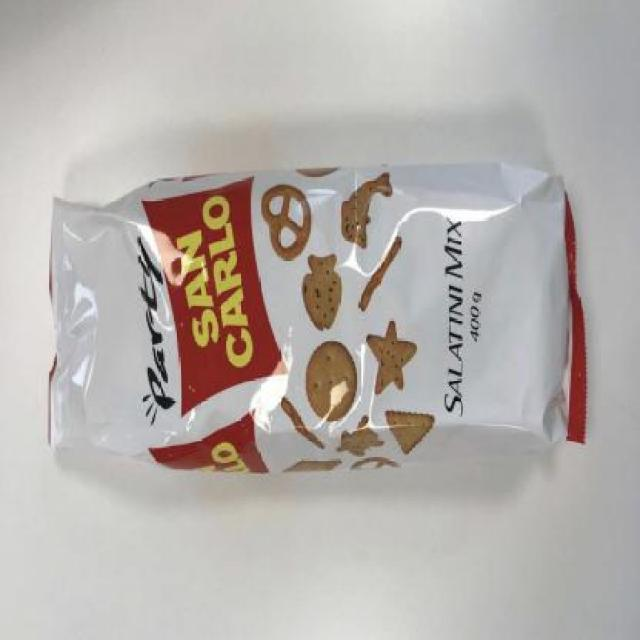Salatini: (35, 150, 598, 490)
